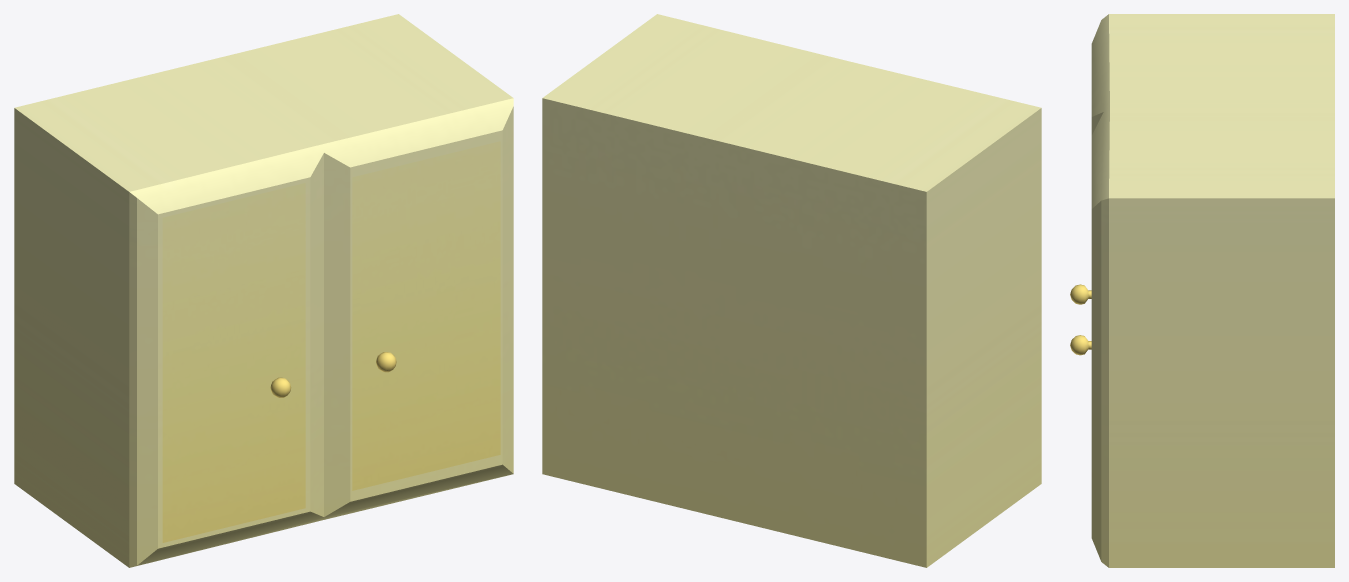
The model's file is cabinet.fbx.
3 renders of one model, left to right at view 1: azimuth 30°, elevation 25°; view 2: azimuth 150°, elevation 25°; view 3: azimuth 270°, elevation 25°, orthographic.
Parts seen in each view (by area): view 1: cabinet; view 2: cabinet; view 3: cabinet.
Boxes of the visible parts, x1,y1,x2,y2 form: cabinet: (14, 14, 513, 567); cabinet: (542, 14, 1041, 567); cabinet: (1070, 14, 1334, 567).
Size of the model in its own units: 2.87 by 2.68 by 1.74.
